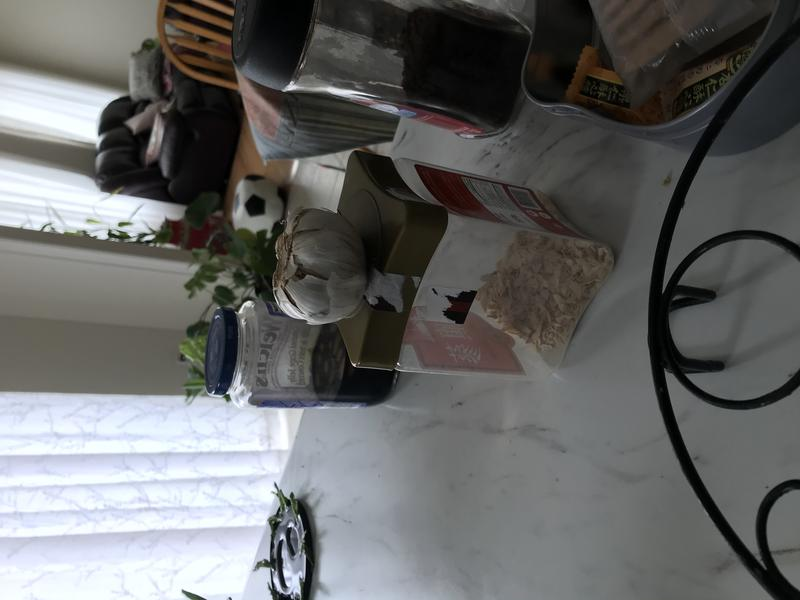garlic: (268, 202, 372, 330)
